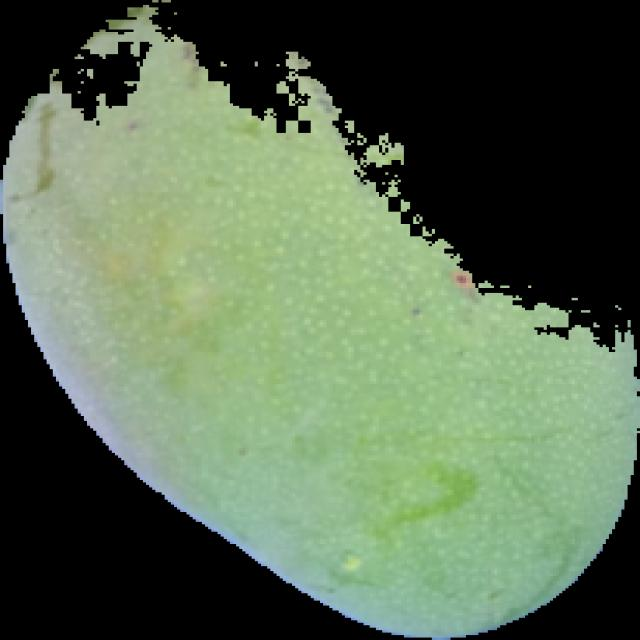Mango-sano: (0, 5, 639, 639)
